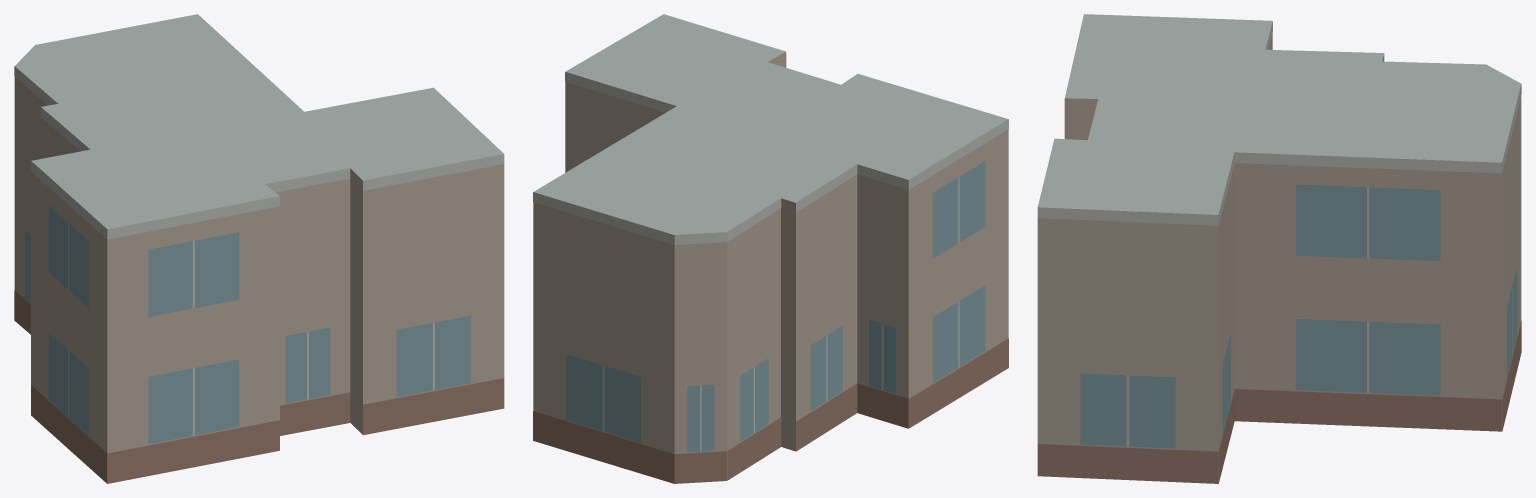
The model's file is survey-upis-32585237.glb.
3 views of the same model, side by side, from view 1: azimuth 30°, elevation 25°; view 2: azimuth 150°, elevation 25°; view 3: azimuth 270°, elevation 25° (orthographic). The views are drawn at different scales.
Parts seen in each view (by area): view 1: survey-upis-32585237.tmp; view 2: survey-upis-32585237.tmp; view 3: survey-upis-32585237.tmp.
Boxes of the visible parts, x1,y1,x2,y2 form: survey-upis-32585237.tmp: (14, 14, 504, 483); survey-upis-32585237.tmp: (533, 14, 1008, 483); survey-upis-32585237.tmp: (1037, 14, 1521, 483).
Bounding box in the file's own units: 9.8 × 6.1 × 9.96.
